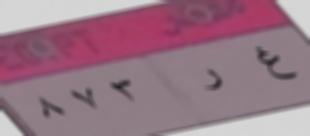3: (109, 72, 139, 108)
7: (69, 81, 99, 116)
8: (35, 91, 66, 123)
ghayn: (247, 42, 298, 91)
raa: (204, 63, 225, 100)
